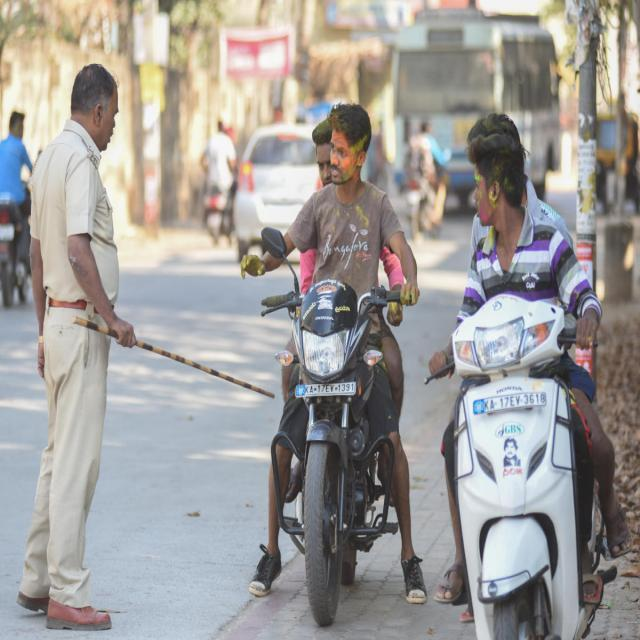No helmet: (462, 124, 527, 229), (327, 106, 375, 196)
